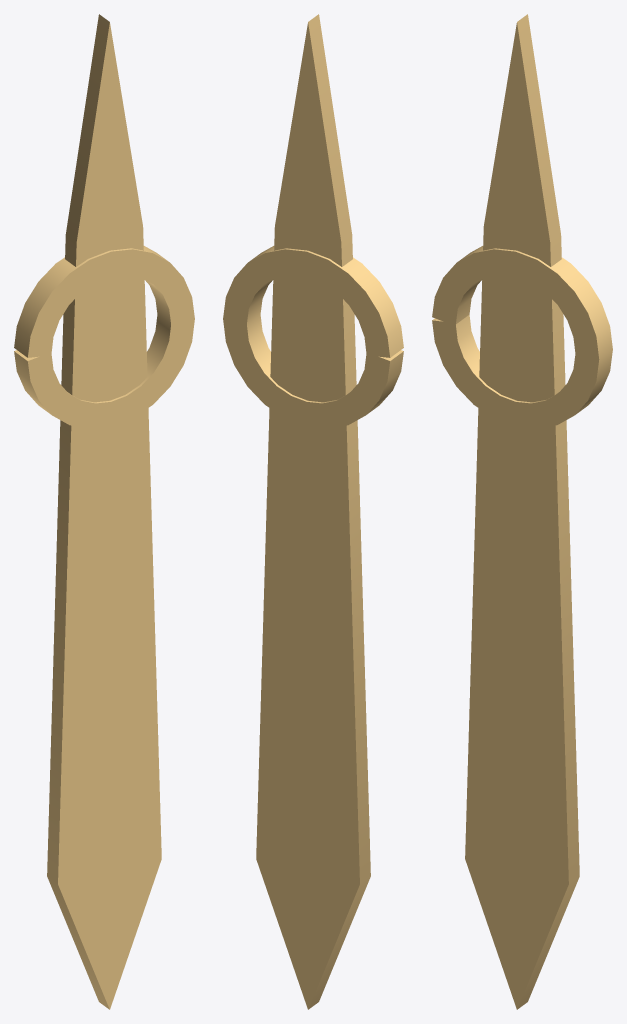
File: HubGate_HourHand.gltf
3 views of the same model, side by side, from view 1: azimuth 30°, elevation 25°; view 2: azimuth 150°, elevation 25°; view 3: azimuth 330°, elevation 25° (orthographic).
Parts seen in each view (by area): view 1: HubGate_HourHand; view 2: HubGate_HourHand; view 3: HubGate_HourHand.
Boxes of the visible parts, left/top/right/bottom form: HubGate_HourHand: left=14, top=14, right=194, bottom=1009; HubGate_HourHand: left=223, top=14, right=403, bottom=1009; HubGate_HourHand: left=432, top=14, right=612, bottom=1009.
Size of the model in its own units: 0.8855 by 5 by 0.126.
